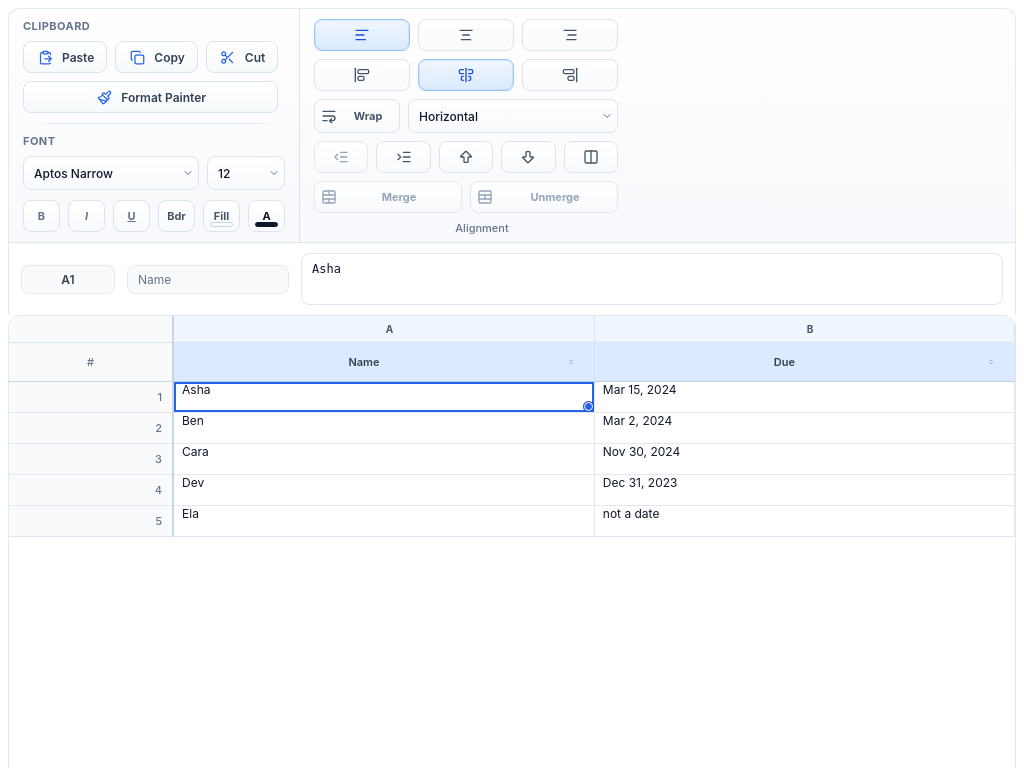
Scenario: stored 0.2.0 behaviours through the new menu › narrows the value list with the search box and Select shown / Unselect shown
The width and height of the screenshot is (1024, 768).
Click the button named "Open column options for Name": click(571, 362) [561,352,581,372]
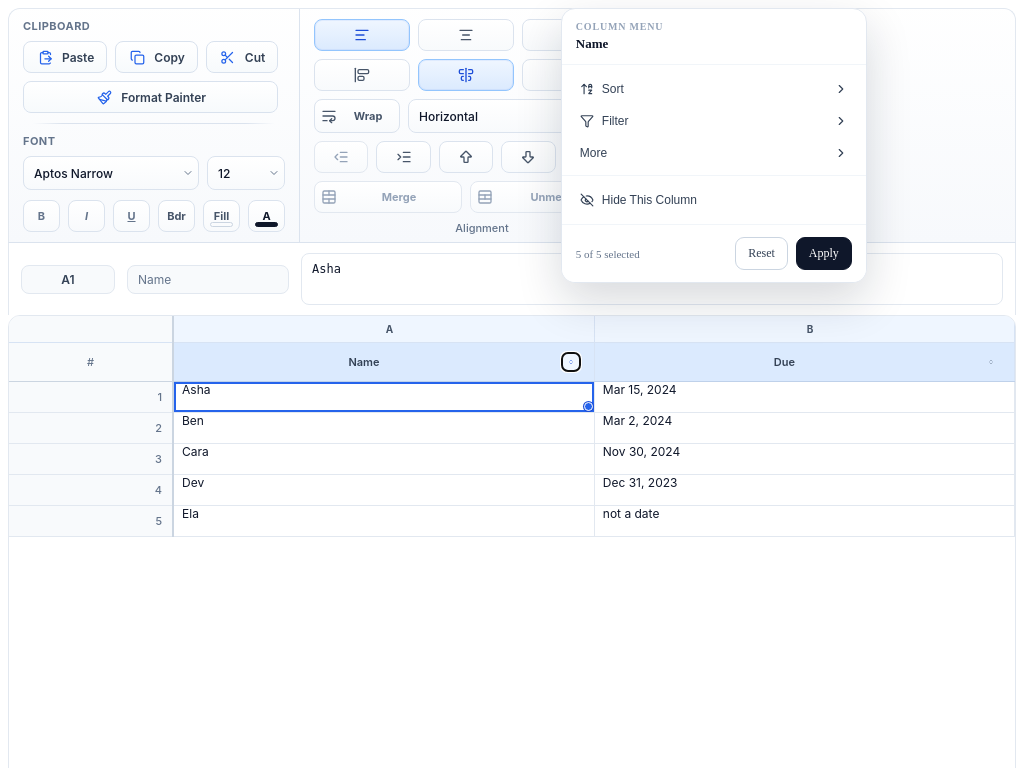
Click the button "Filter": click(587, 121) [570,105,858,137]
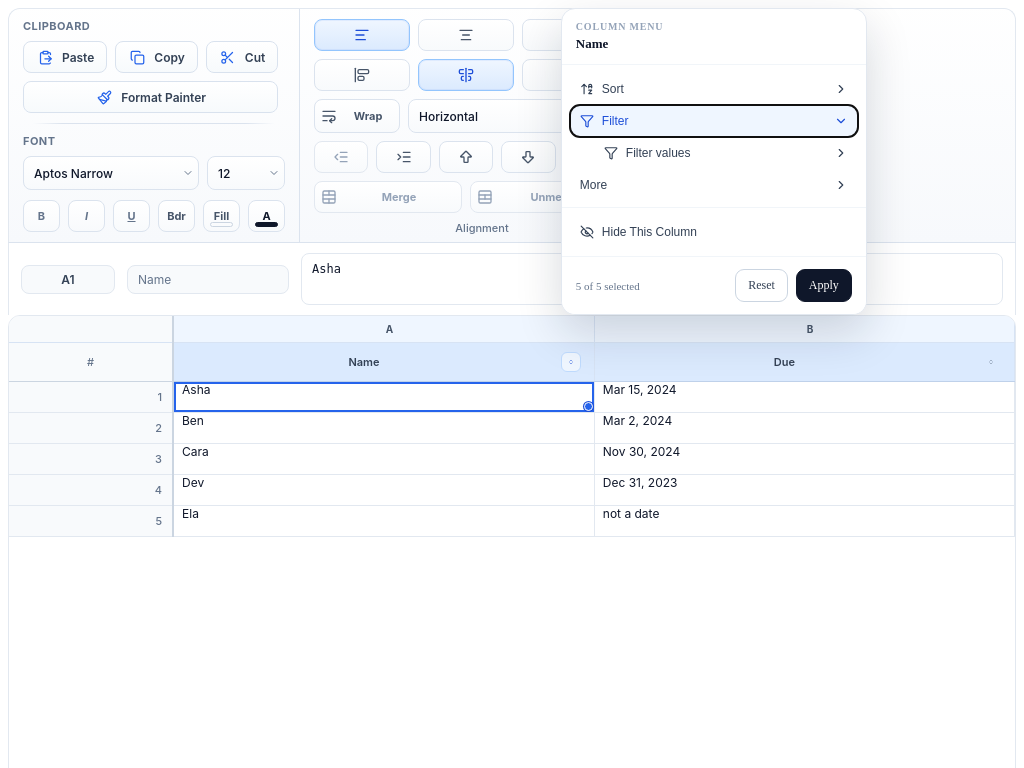
Click the button "Filter values": click(658, 153) [594,139,858,167]
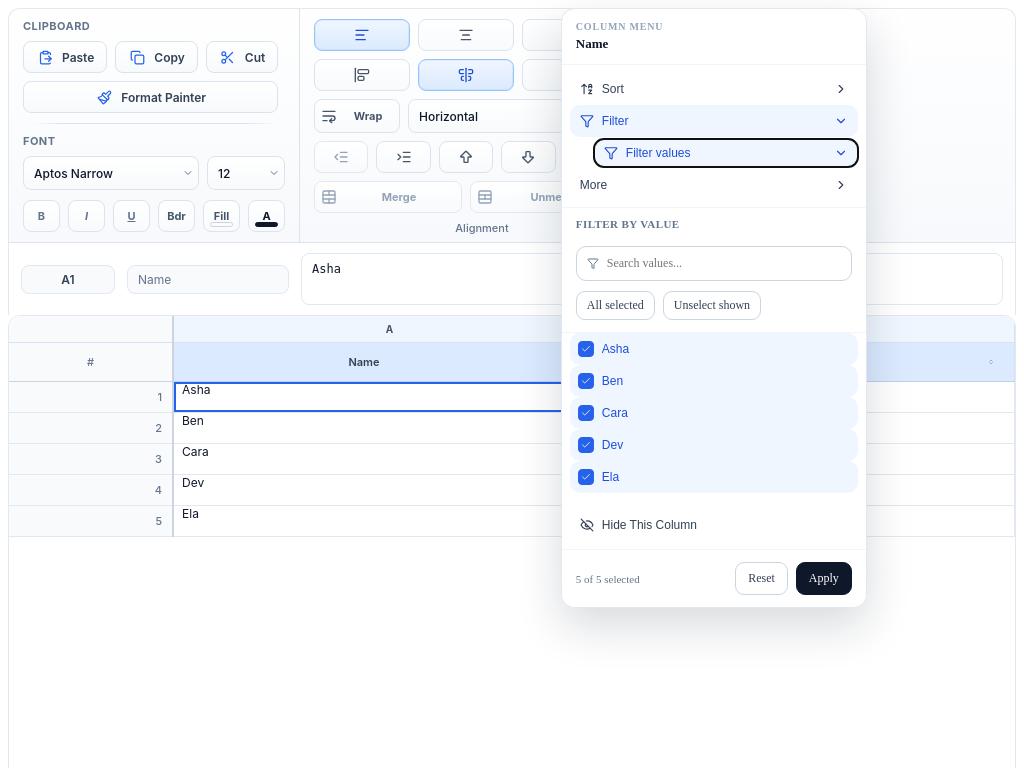
In the field labelled "Search values": (724, 264) [607,247,841,280], type "as"
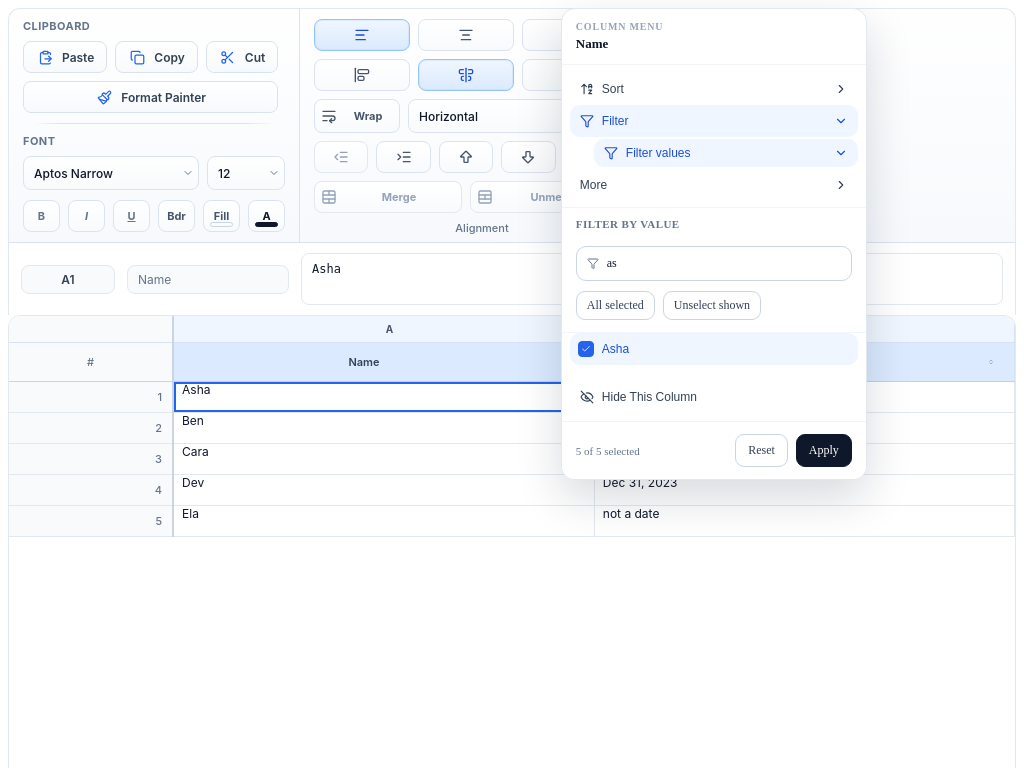
expect the checkbox labelled "Asha" is shown: met, box [570,333,858,365]
Click the button "Unselect shown": click(712, 306) [663,291,761,320]
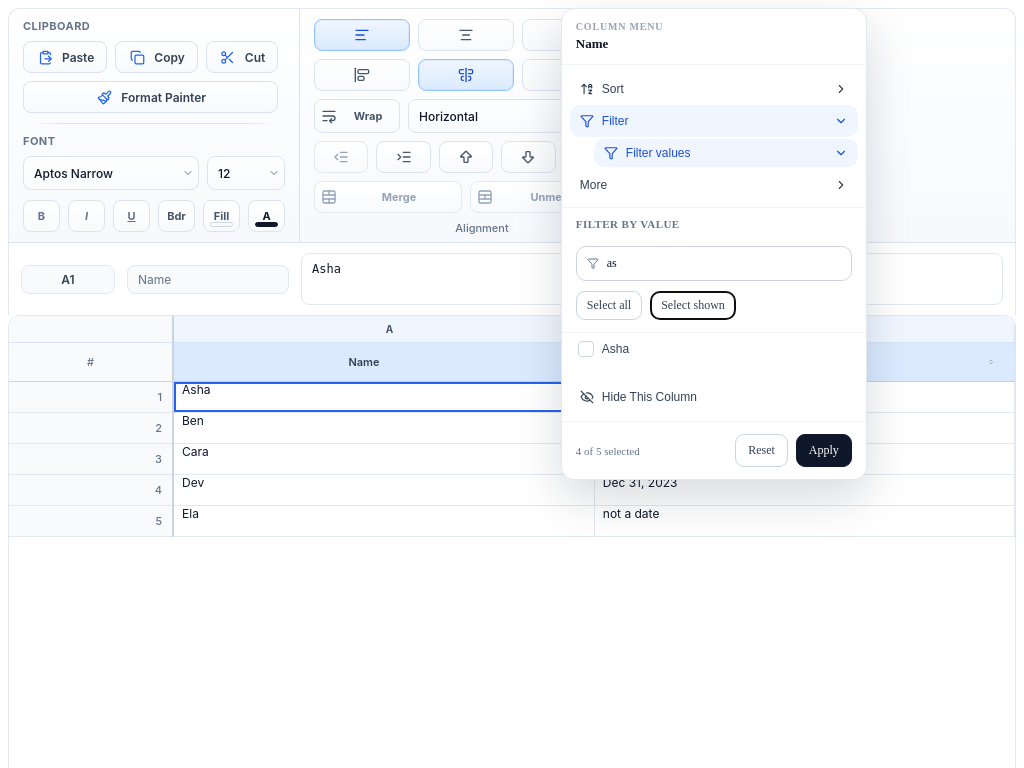
expect the text "4 of 5 selected" is shown: met, box [576,444,640,456]
Click the button "Select shown": click(693, 306) [650,291,736,320]
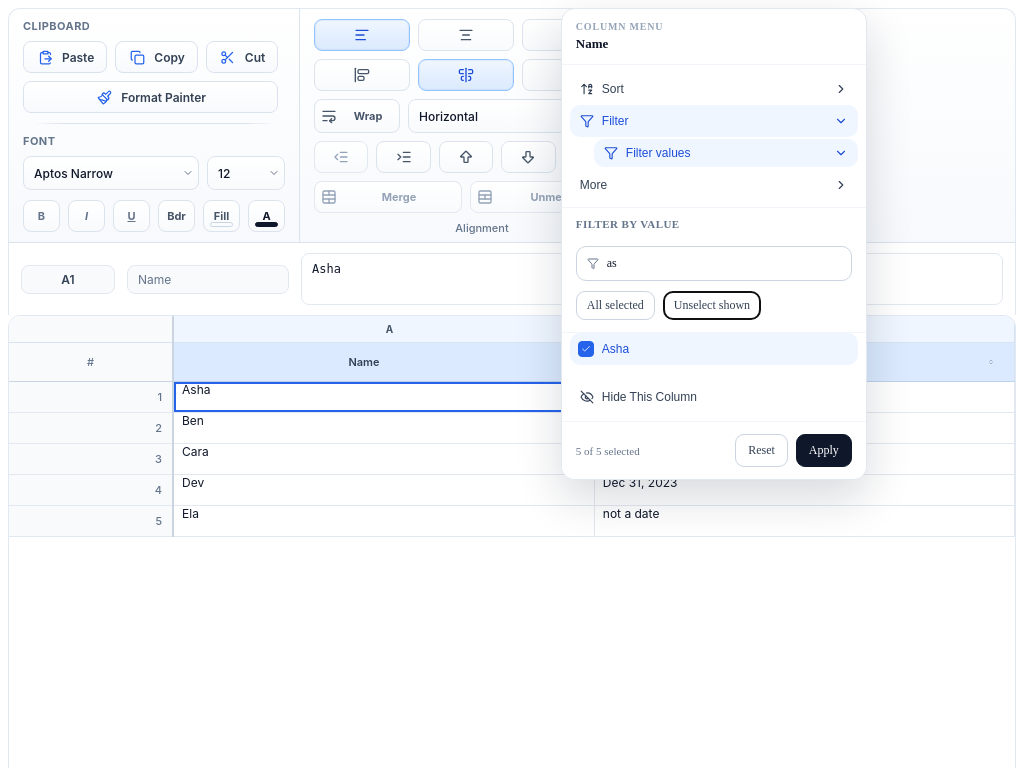
expect the text "5 of 5 selected" is shown: met, box [576,444,640,456]
